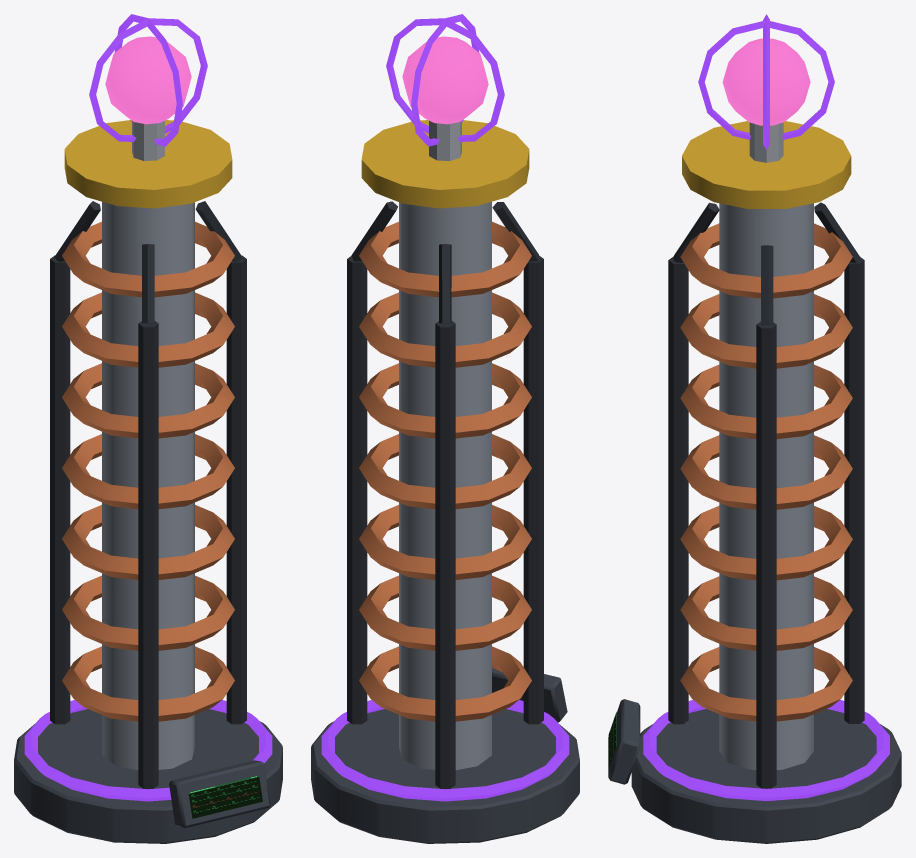
File: antenna_subspace_relay_coil.glb
3 renders of one model, left to right at view 1: azimuth 30°, elevation 25°; view 2: azimuth 150°, elevation 25°; view 3: azimuth 270°, elevation 25°, orthographic.
Visible parts, largest first — view 1: antenna_subspace_relay_coil; view 2: antenna_subspace_relay_coil; view 3: antenna_subspace_relay_coil.
Part boxes in pixels (left/top/right/bottom): antenna_subspace_relay_coil: left=14, top=14, right=282, bottom=843; antenna_subspace_relay_coil: left=311, top=14, right=579, bottom=843; antenna_subspace_relay_coil: left=608, top=14, right=901, bottom=843.
Size of the model in its own units: 0.7969 by 2.5 by 0.8654.
9 materials, 1 textured.
